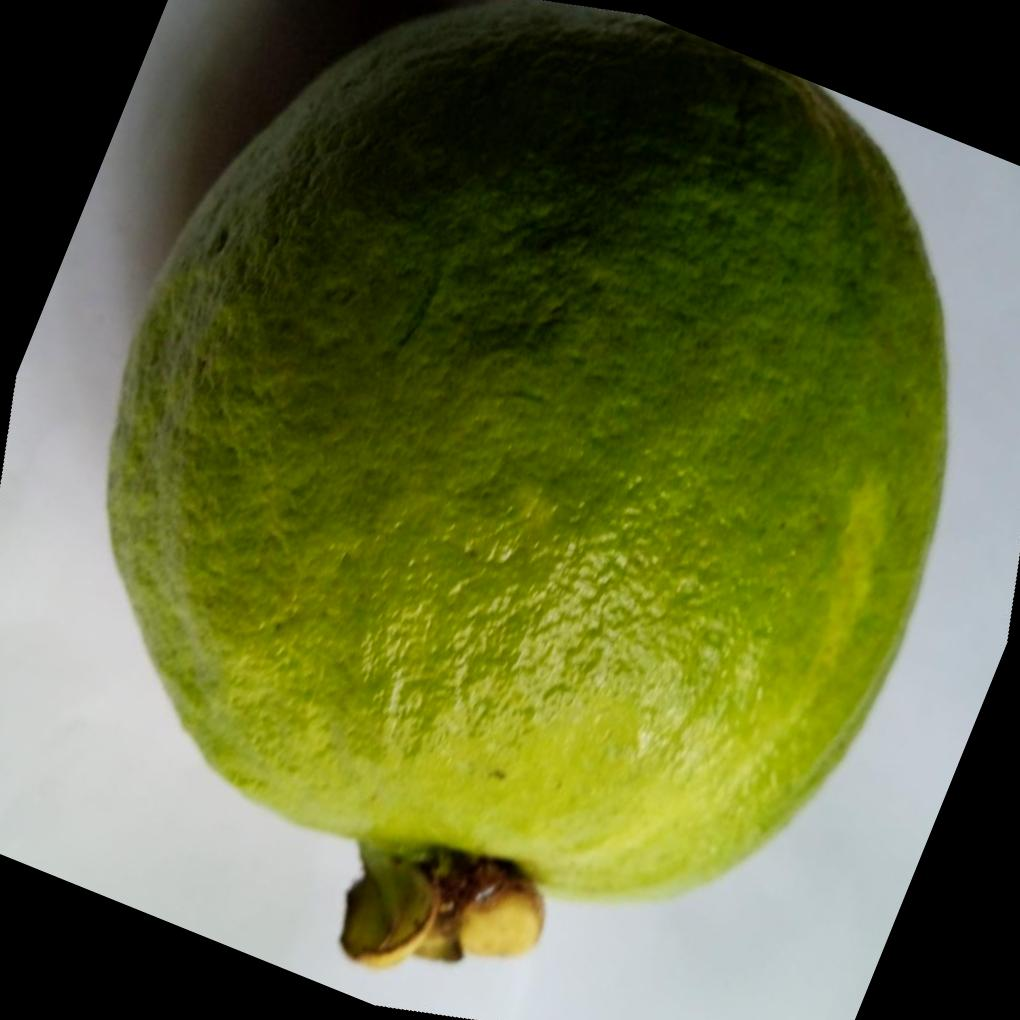FreshGuava: (99, 0, 947, 952)
